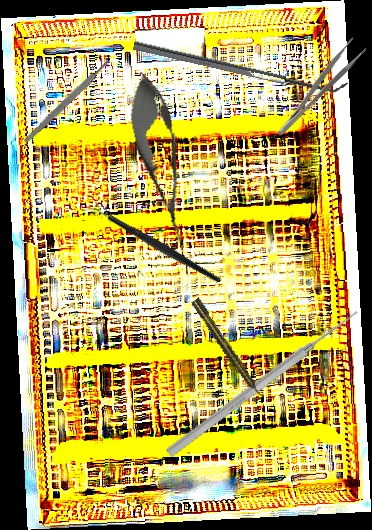Chopper: (80, 169, 222, 321)
Dressing Forceps: (267, 34, 369, 140)
Handpiece: (190, 296, 265, 401)
Micro Scissor: (118, 67, 202, 251)
Pusher: (164, 305, 363, 460)
Scalpel Handle: (22, 58, 112, 145)
Spatula Surgical: (132, 32, 349, 99)
